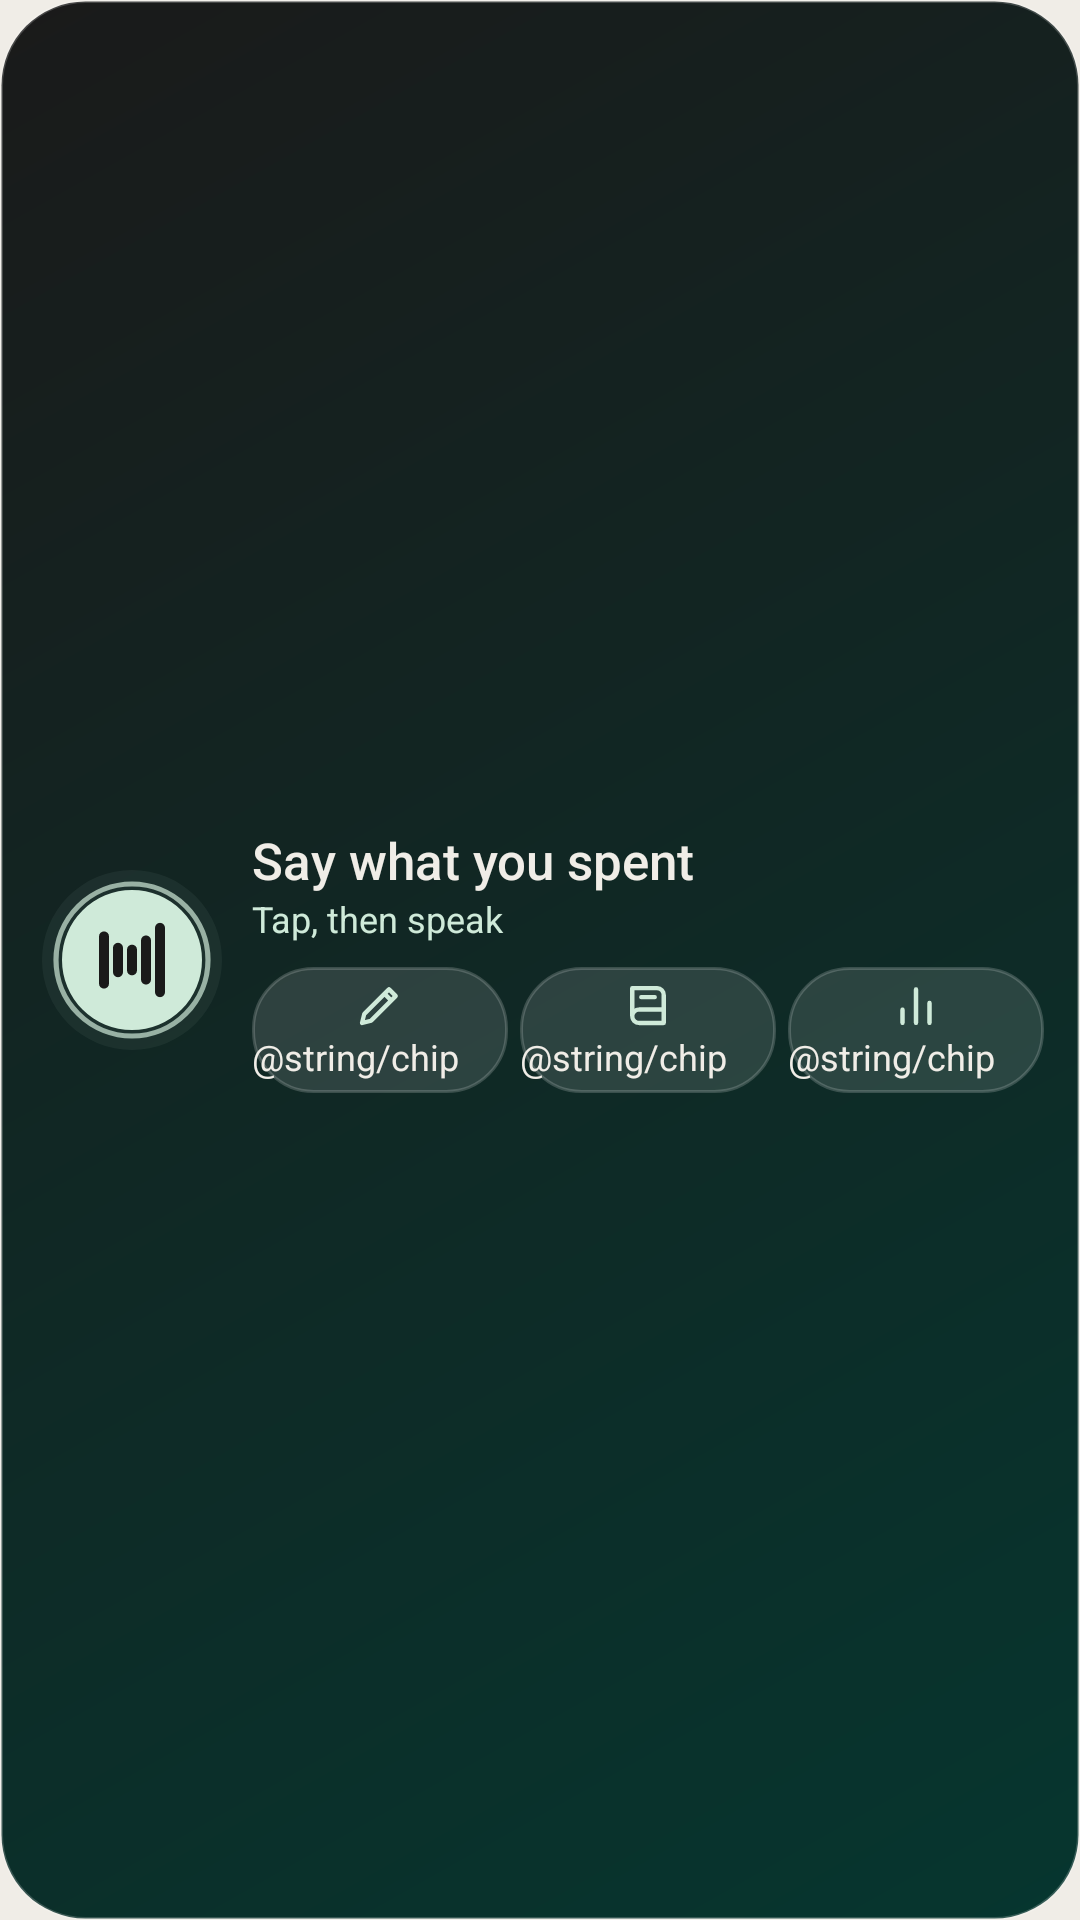

Named icons in this screenshot (1080px x 1920px) and their bounding boxes, BBox(x1, y1, x2, y2):
widget wave: BBox(53, 881, 211, 1039)
